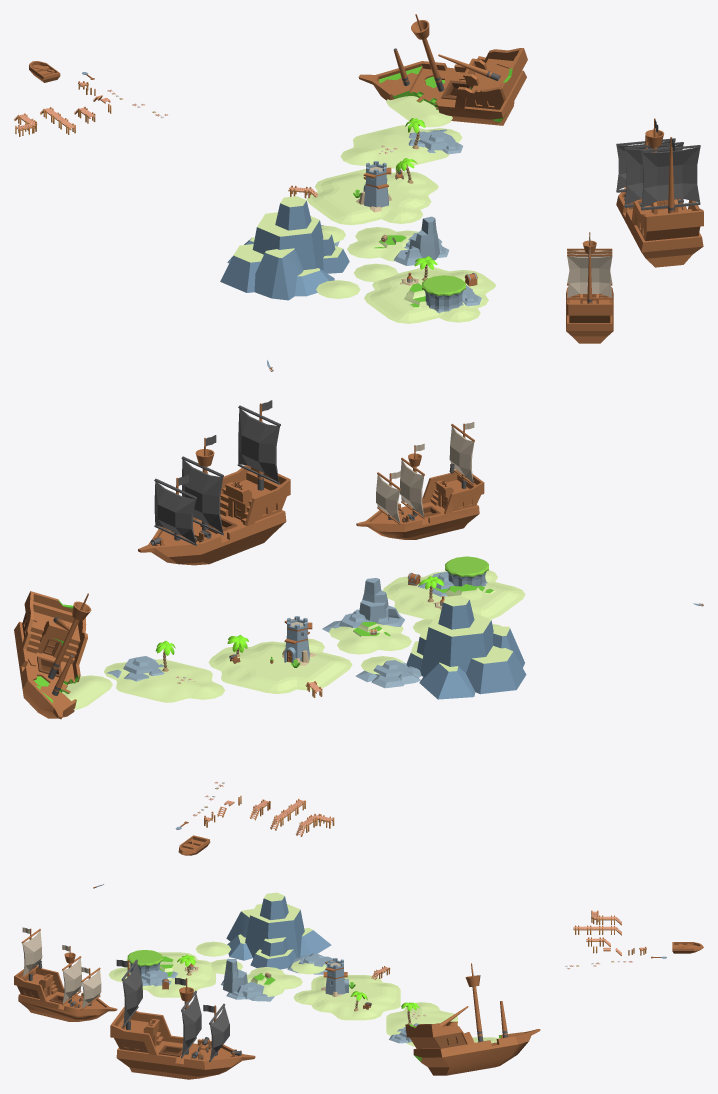
Rendered from SC_Ships_Ahoy.fbx.
The picture shows the model from 3 angles, top to bottom: view 1: azimuth 30°, elevation 25°; view 2: azimuth 150°, elevation 25°; view 3: azimuth 270°, elevation 25°; orthographic projection. The views are drawn at different scales.
Visible parts, largest first — view 1: SM_Ship_Dark, SM_Shipwreck, SM_Rock_Mountain_1, SM_Island_4, SM_Ship_Light, SM_Island_4.001, SM_Island_1, SM_Cliff_1, SM_Island_3, SM_Stone_Mountain_Tall, SM_Tower, SM_Island_2 (+3 smaller); view 2: SM_Ship_Dark, SM_Rock_Mountain_1, SM_Ship_Light, SM_Shipwreck, SM_Island_4, SM_Island_1, SM_Island_4.001, SM_Island_3, SM_Stone_Mountain_Tall, SM_Stone_Mountain.002, SM_Tower, SM_Cliff_1 (+2 smaller); view 3: SM_Ship_Dark, SM_Shipwreck, SM_Ship_Light, SM_Rock_Mountain_1, SM_Island_4, SM_Island_4.001, SM_Island_1, SM_Island_3, SM_Tower, SM_Stone_Mountain_Tall, SM_Cliff_1, SM_Stone_Mountain.001 (+5 smaller).
Boxes of the visible parts, box(x1,y1,x2,y2) form: SM_Ship_Dark: box(616, 118, 703, 267); SM_Shipwreck: box(358, 14, 527, 125); SM_Rock_Mountain_1: box(220, 196, 349, 300); SM_Island_4: box(306, 169, 438, 225); SM_Ship_Light: box(566, 232, 613, 343); SM_Island_4.001: box(364, 267, 495, 323); SM_Island_1: box(340, 125, 462, 168); SM_Cliff_1: box(422, 275, 465, 313); SM_Island_3: box(347, 227, 418, 261); SM_Stone_Mountain_Tall: box(394, 216, 439, 265); SM_Tower: box(356, 161, 391, 212); SM_Island_2: box(386, 96, 452, 127); SM_Ship_Dark: box(138, 400, 290, 565); SM_Rock_Mountain_1: box(406, 595, 526, 699); SM_Ship_Light: box(356, 422, 484, 539); SM_Shipwreck: box(14, 591, 91, 719); SM_Island_4: box(208, 638, 352, 693); SM_Island_1: box(103, 659, 224, 702); SM_Island_4.001: box(382, 570, 525, 619); SM_Island_3: box(329, 623, 411, 654); SM_Stone_Mountain_Tall: box(351, 578, 404, 626); SM_Stone_Mountain.002: box(355, 660, 421, 688); SM_Tower: box(282, 616, 316, 665); SM_Cliff_1: box(445, 556, 488, 586); SM_Ship_Dark: box(110, 959, 255, 1079); SM_Shipwreck: box(405, 963, 540, 1075); SM_Ship_Light: box(14, 927, 117, 1021); SM_Rock_Mountain_1: box(226, 892, 331, 969); SM_Island_4: box(293, 975, 400, 1020); SM_Island_4.001: box(109, 952, 215, 997); SM_Island_1: box(386, 1002, 457, 1046); SM_Island_3: box(247, 967, 302, 996); SM_Tower: box(321, 958, 348, 996); SM_Stone_Mountain_Tall: box(221, 958, 247, 993); SM_Cliff_1: box(127, 950, 162, 975); SM_Stone_Mountain.001: box(226, 982, 274, 1001).
Size of what is drawn, in the model's own units: 74.09 by 20.81 by 116.
